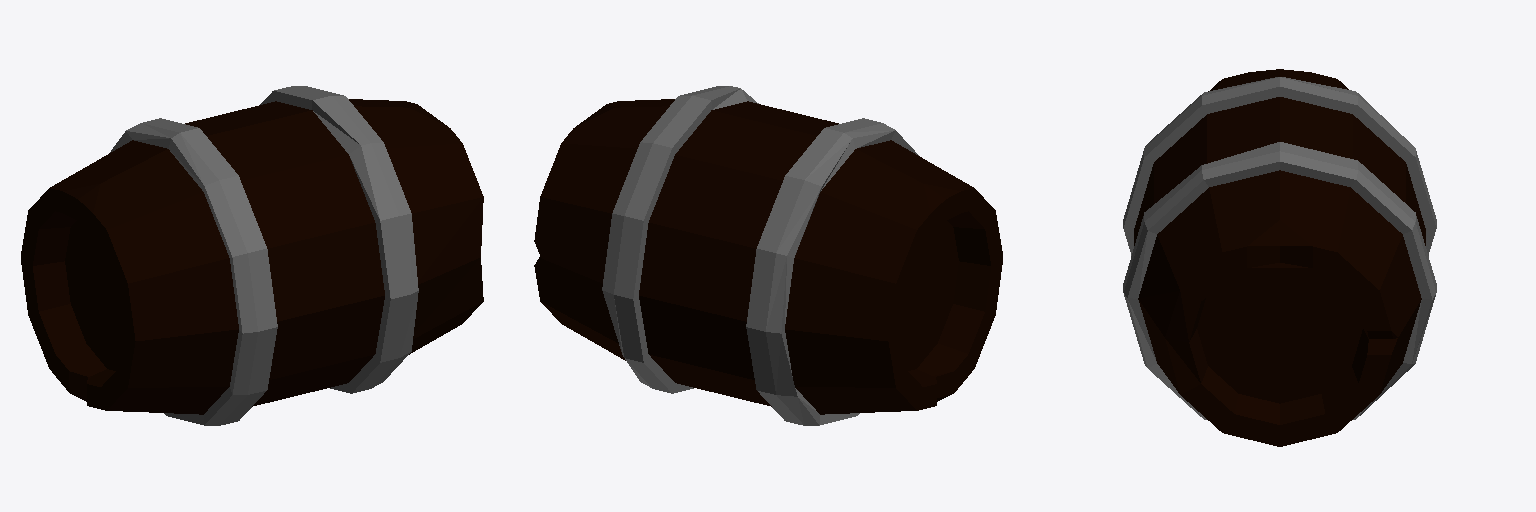
Rendered from barrel2.obj.
3 views of the same model, side by side, from view 1: azimuth 30°, elevation 25°; view 2: azimuth 150°, elevation 25°; view 3: azimuth 270°, elevation 25° (orthographic).
Visible parts, largest first — view 1: Cylinder.003; view 2: Cylinder.003; view 3: Cylinder.003.
Boxes of the visible parts, box(x1,y1,x2,y2) form: Cylinder.003: box(21, 86, 483, 425); Cylinder.003: box(534, 86, 1002, 425); Cylinder.003: box(1123, 69, 1436, 446).
Bounding box in the file's own units: 1.32 × 1.01 × 1.01.